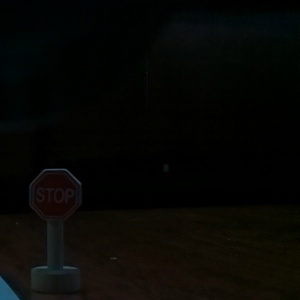stop sign: (27, 165, 84, 293)
